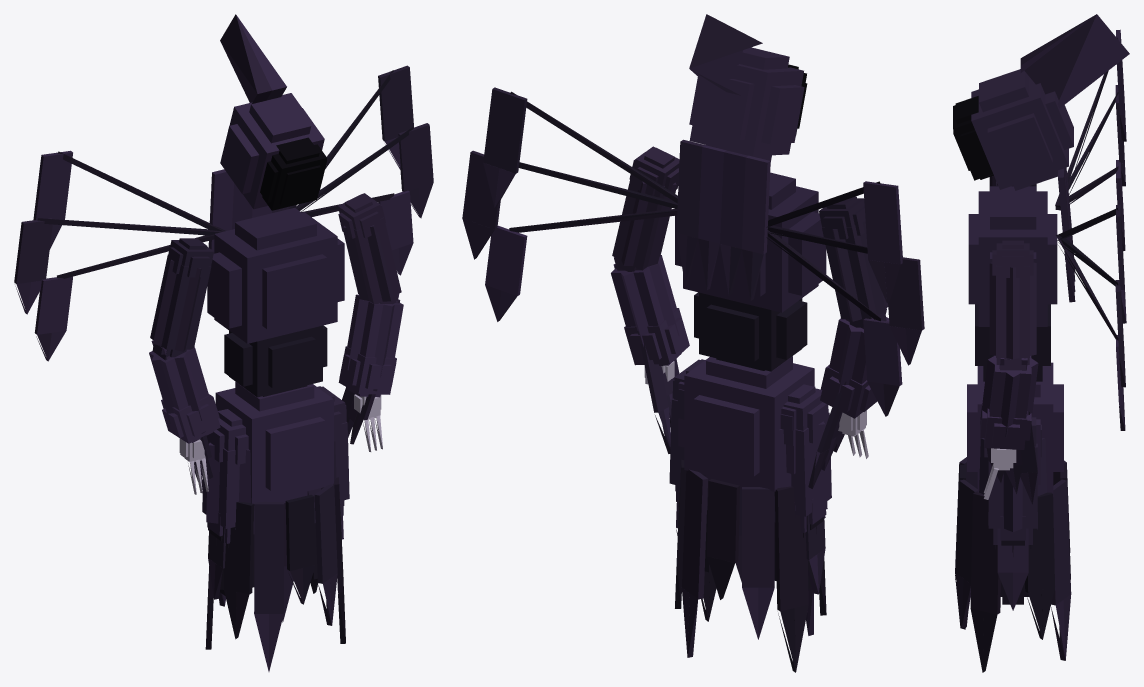
The picture shows the model from 3 angles, left to right: view 1: azimuth 30°, elevation 25°; view 2: azimuth 150°, elevation 25°; view 3: azimuth 270°, elevation 25°; orthographic projection. The views are drawn at different scales.
Parts seen in each view (by area): view 1: VoidWraith; view 2: VoidWraith; view 3: VoidWraith.
Part boxes in pixels (x1,y1,x2,y2): VoidWraith: [14, 14, 433, 671]; VoidWraith: [462, 14, 924, 672]; VoidWraith: [953, 14, 1129, 672].
Bounding box in the file's own units: 1.18 × 1.63 × 0.4146.
